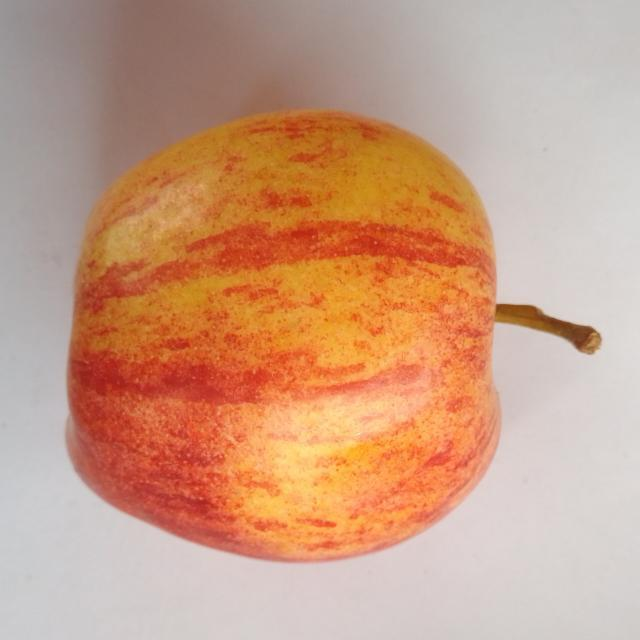Fresh Apple: (61, 112, 506, 570)
